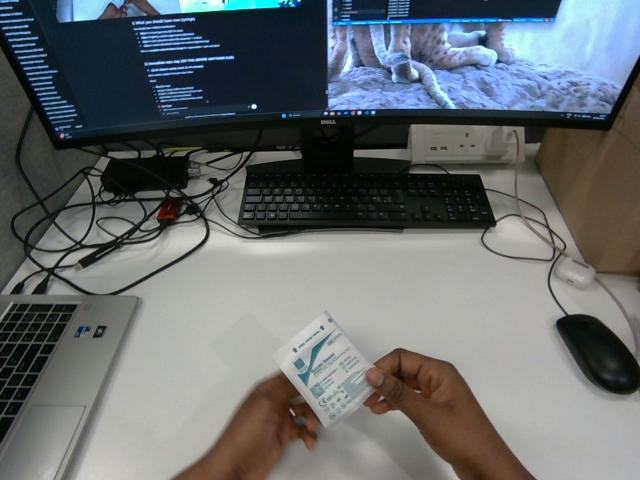gauze: (274, 312, 373, 426)
